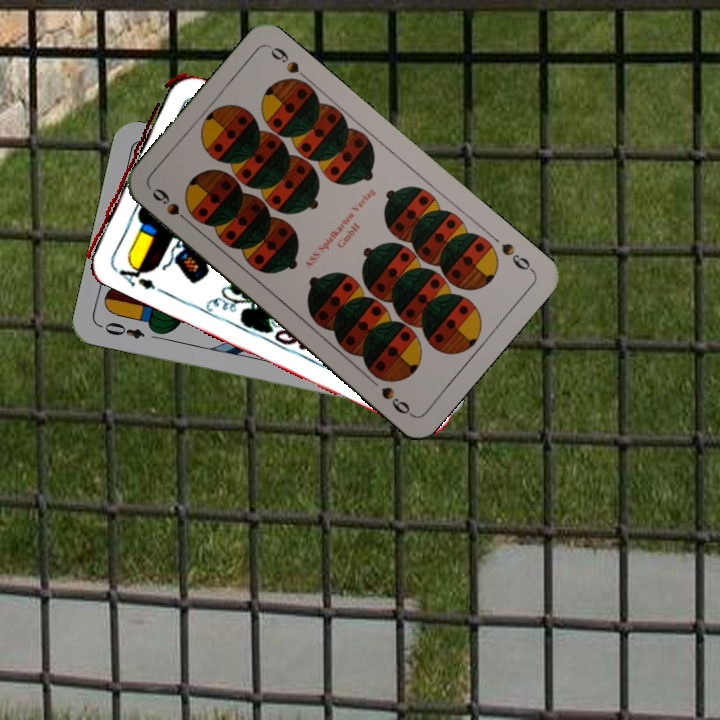EA: (107, 253, 162, 295)
EO: (100, 318, 147, 342)
S9: (147, 183, 195, 229), (497, 238, 537, 275)
